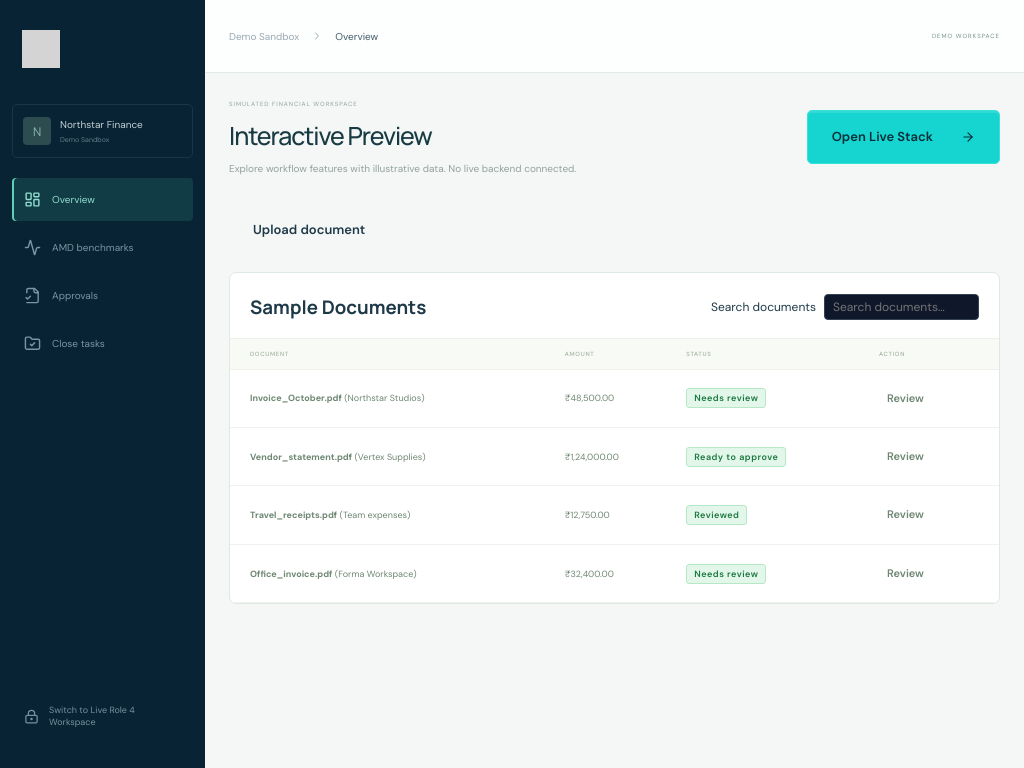
Test: Workspaces Component Tests › opens and closes document review dialog with accessible semantics
This screenshot has width=1024, height=768.
What coordinates should you click on to do the following:
click the button with aria-label "Review Invoice_October.pdf"
I would click on:
 (905, 398)
Its box is [879, 387, 932, 410].
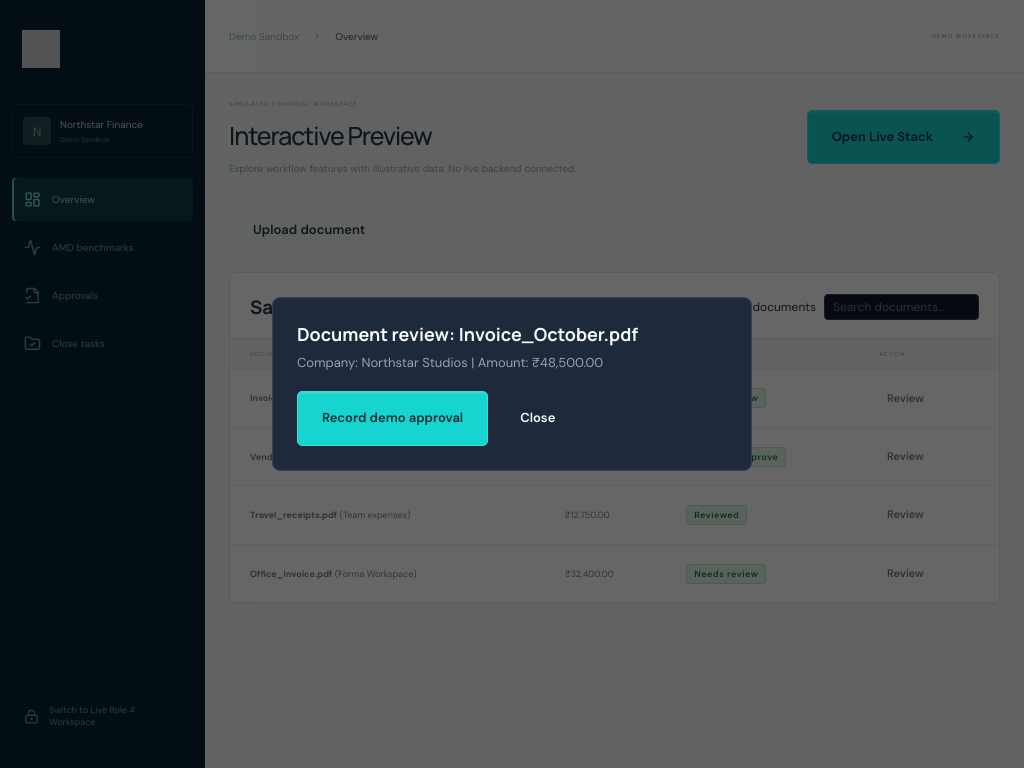
Now the dialog "Document review" is shown
What coordinates should you click on to do the following:
click the button with aria-label "Close document review"
I would click on:
 (538, 418)
Its box is [496, 391, 579, 446].
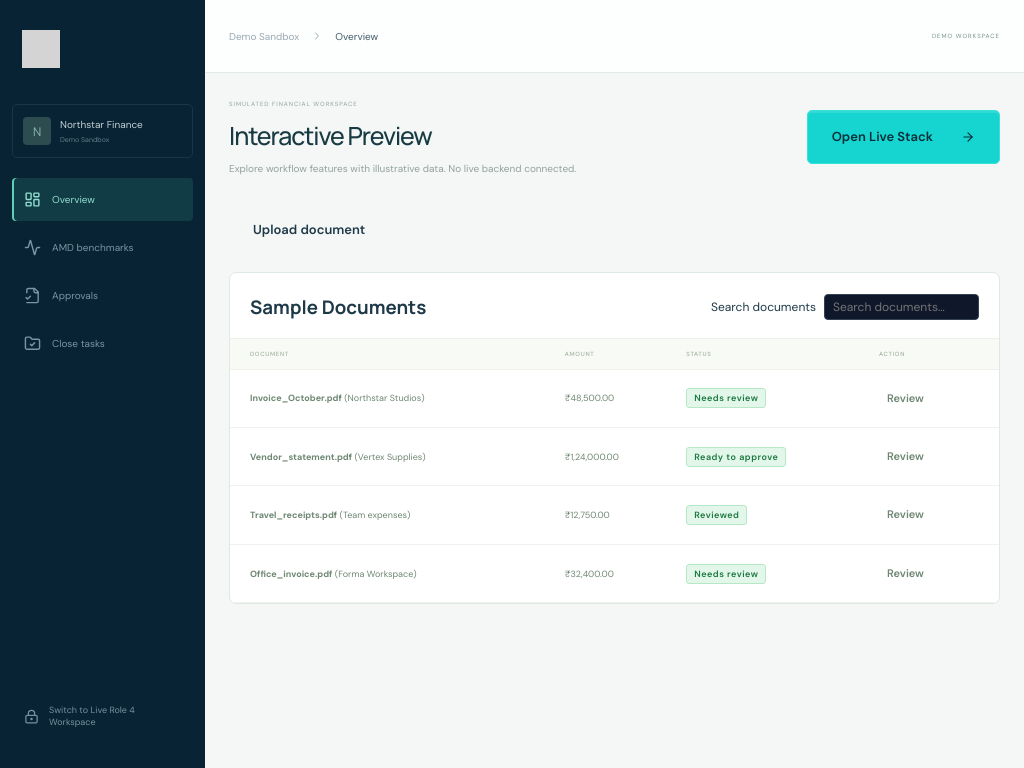
Now the dialog is gone
